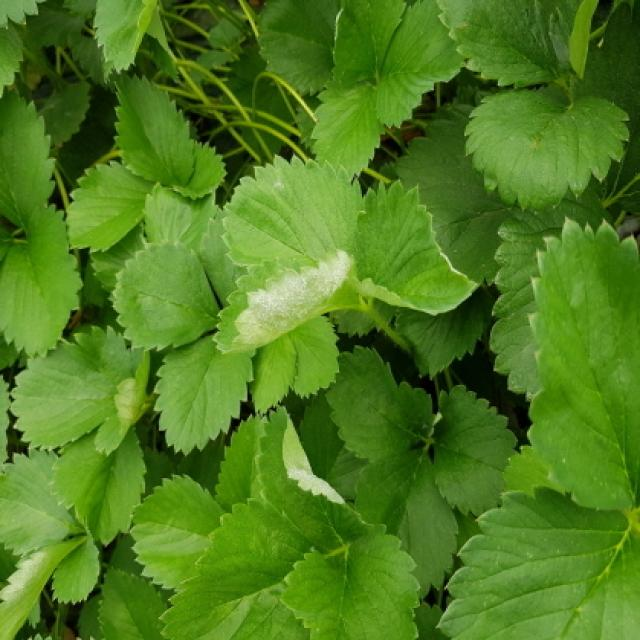Powdery Mildew Leaf: (254, 405, 388, 554), (213, 250, 355, 353)
